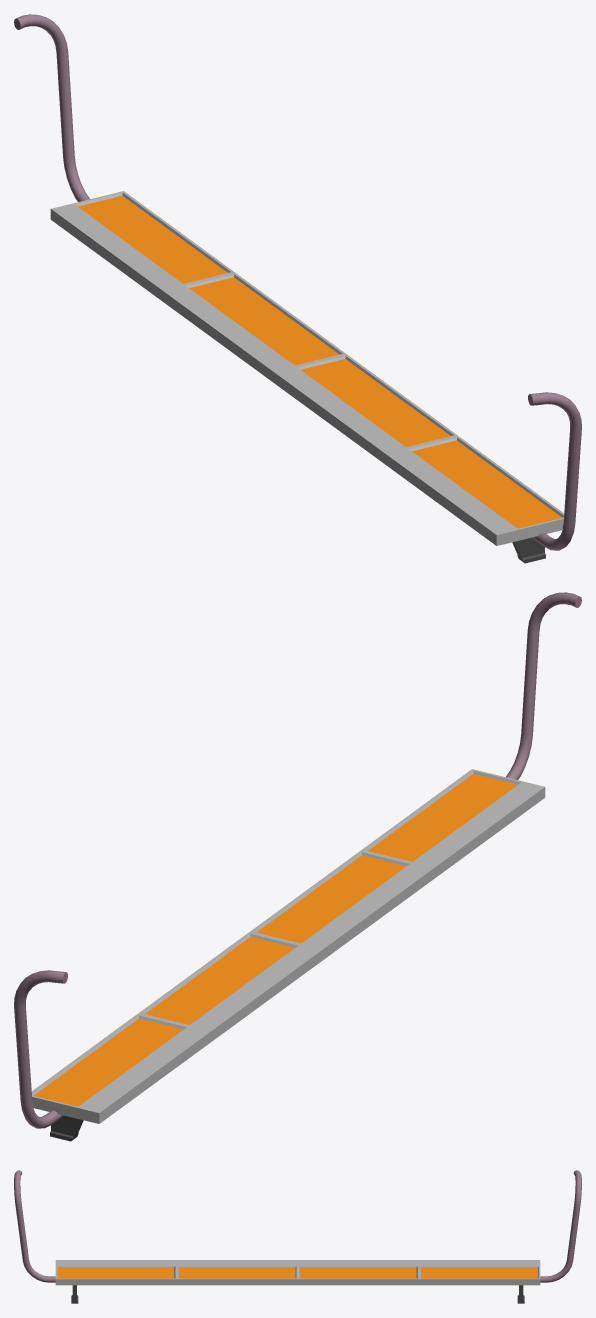
File: Stairs.fbx
The picture shows the model from 3 angles, top to bottom: view 1: azimuth 30°, elevation 25°; view 2: azimuth 150°, elevation 25°; view 3: azimuth 270°, elevation 25°; orthographic projection. The views are drawn at different scales.
Visible parts, largest first — view 1: SM_Stairs; view 2: SM_Stairs; view 3: SM_Stairs.
Boxes of the visible parts, bbox=[...] form: SM_Stairs: bbox=[14, 14, 581, 563]; SM_Stairs: bbox=[14, 592, 581, 1141]; SM_Stairs: bbox=[14, 1170, 581, 1303].
Size of the model in its own units: 39.84 by 112 by 492.
